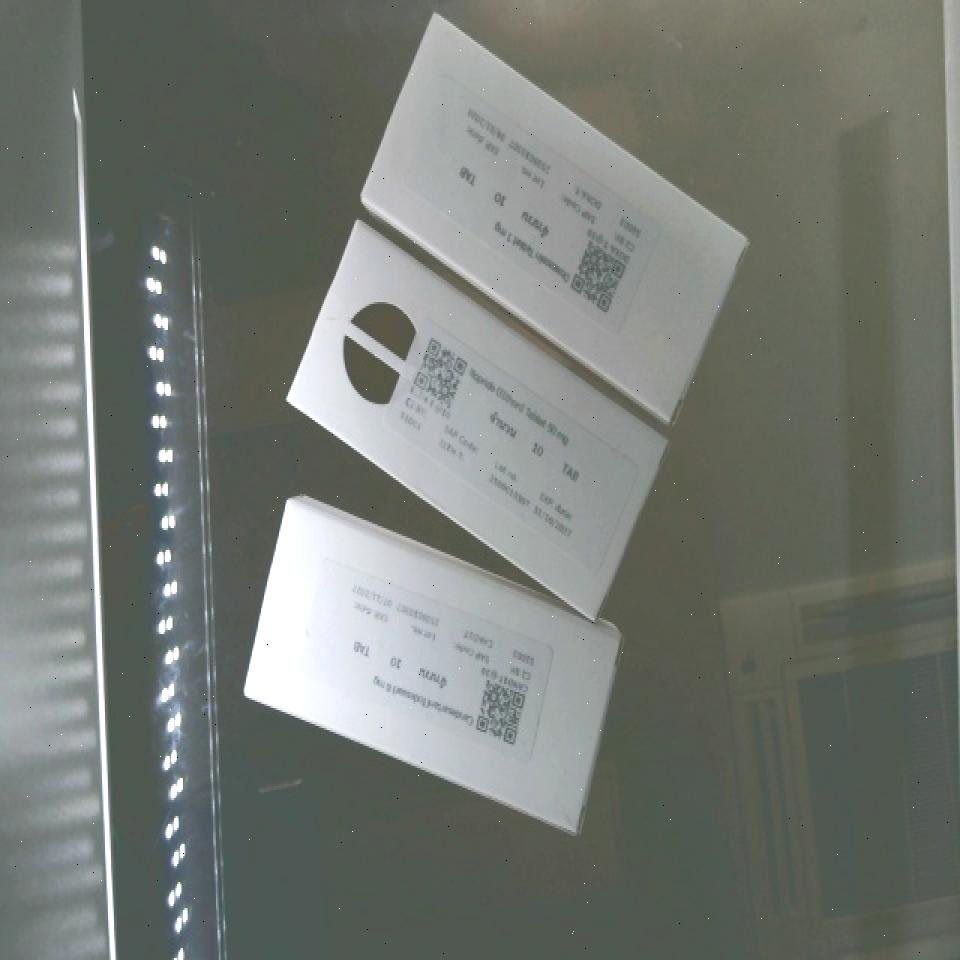medicine_box: (319, 15, 778, 426), (247, 223, 702, 622), (218, 504, 652, 829)
qr_code: (382, 318, 490, 432), (449, 654, 560, 764), (546, 216, 651, 327)
